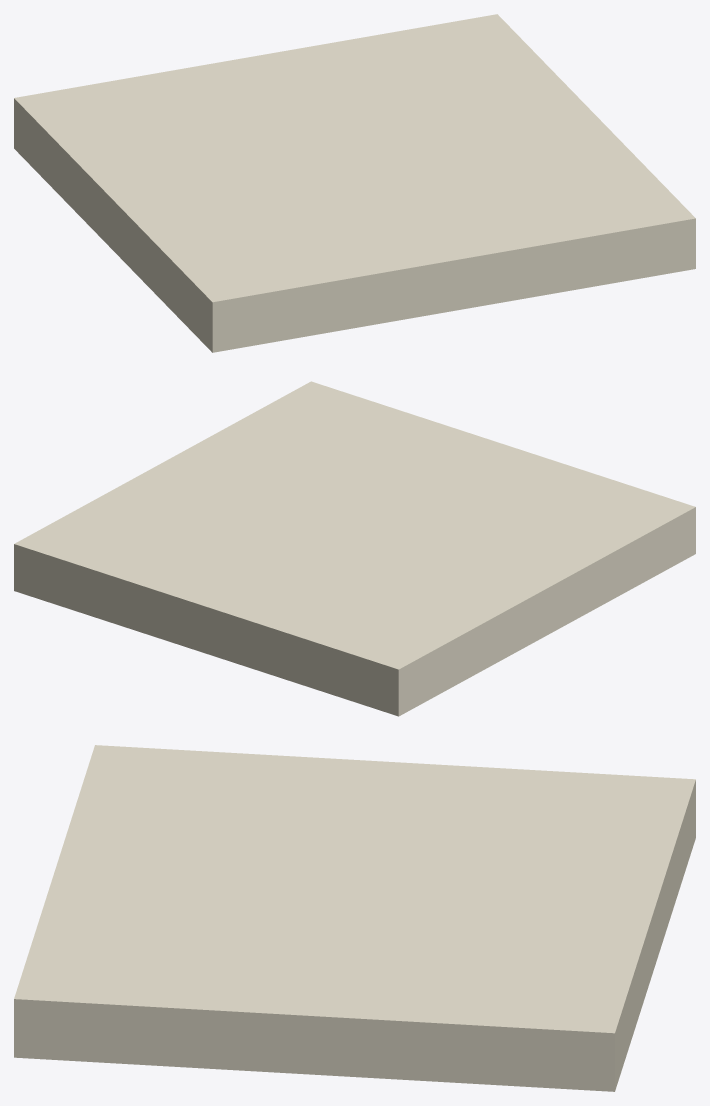
Rendered from camino_1_lev1.glb.
3 views of the same model, one above another, from view 1: azimuth 30°, elevation 25°; view 2: azimuth 150°, elevation 25°; view 3: azimuth 270°, elevation 25° (orthographic). The views are drawn at different scales.
Visible parts, largest first — view 1: camino_1_lev1; view 2: camino_1_lev1; view 3: camino_1_lev1.
Boxes of the visible parts, x1,y1,x2,y2 form: camino_1_lev1: [14, 14, 695, 352]; camino_1_lev1: [14, 381, 695, 716]; camino_1_lev1: [14, 745, 695, 1091].
Size of the model in its own units: 1.69 by 0.16 by 1.69.
